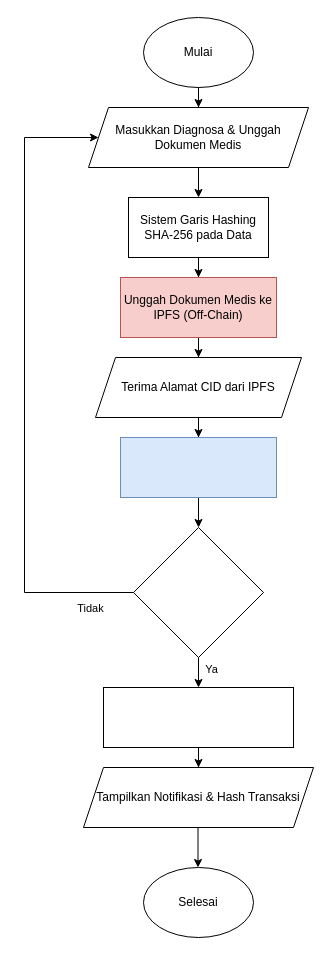
This 331x955 diagram has some shape labels left out. The shapes that lost their labels are listed below. From the top down, each one's box as (x1, y1, x2, y2) in pixels, then its label:
(120, 436, 276, 498): Kirim Hash & CID ke Smart Contract (On-Chain)
(132, 526, 264, 658): Dokter Transaksi Melalui MetaMask ?
(102, 686, 294, 748): Proses Validasi & Pengembangan di Ethereum Sepolia
